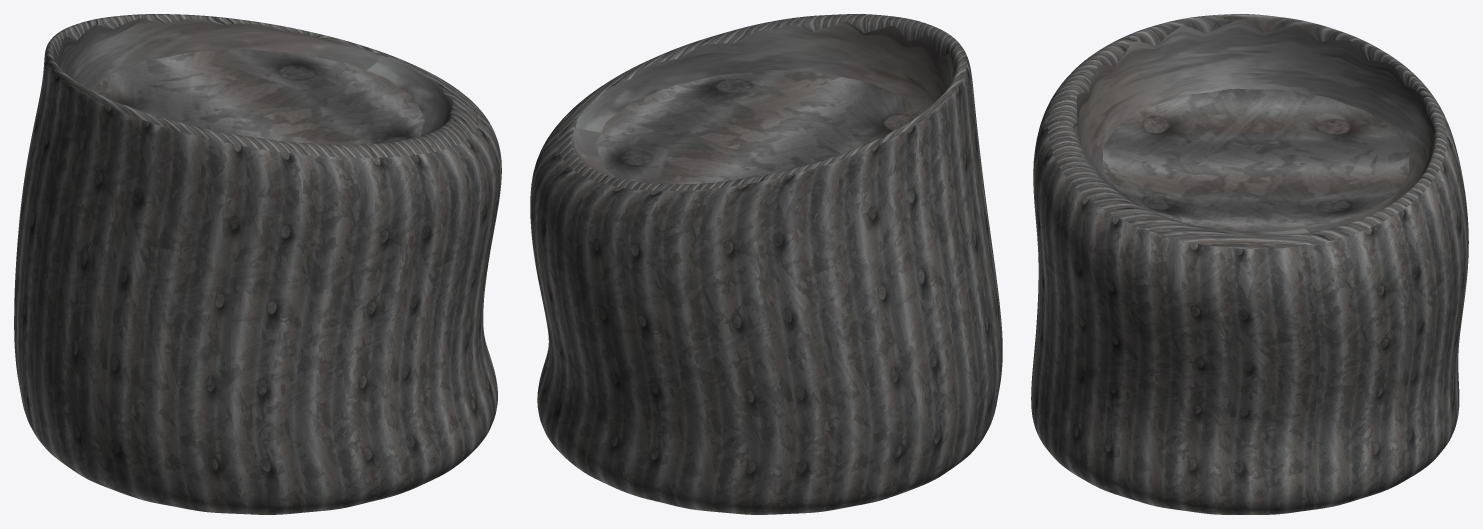
File: chair.fbx
The picture shows the model from 3 angles, left to right: view 1: azimuth 30°, elevation 25°; view 2: azimuth 150°, elevation 25°; view 3: azimuth 270°, elevation 25°; orthographic projection. The views are drawn at different scales.
Parts seen in each view (by area): view 1: pCylinder7; view 2: pCylinder7; view 3: pCylinder7.
Boxes of the visible parts, x1=… form: pCylinder7: x1=14, y1=14, x2=501, y2=514; pCylinder7: x1=530, y1=14, x2=1002, y2=514; pCylinder7: x1=1031, y1=14, x2=1468, y2=514.
Size of the model in its own units: 10.75 by 9.53 by 10.72.
Materials: 1 (1 with a texture image).
